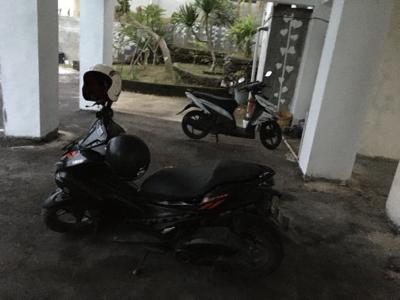moto: (45, 95, 287, 285), (183, 82, 285, 149)
